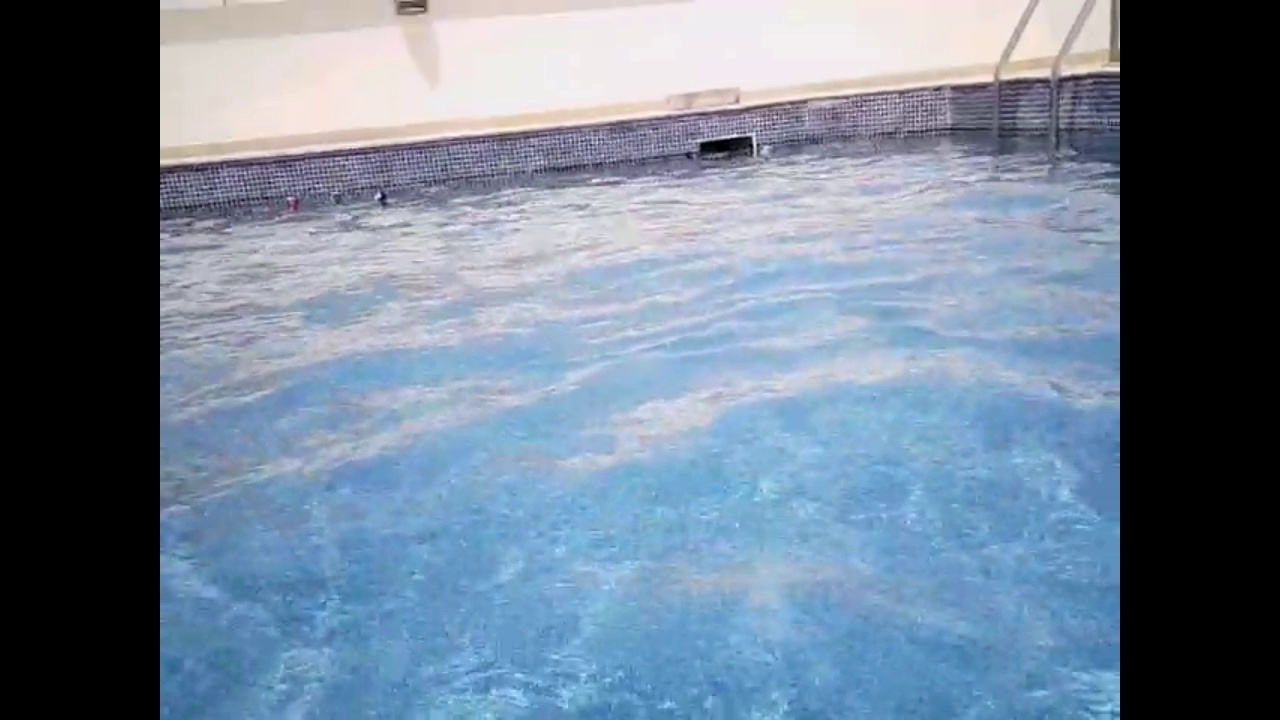debris: (325, 184, 347, 207), (281, 189, 302, 208), (371, 185, 388, 206), (758, 142, 776, 158)
